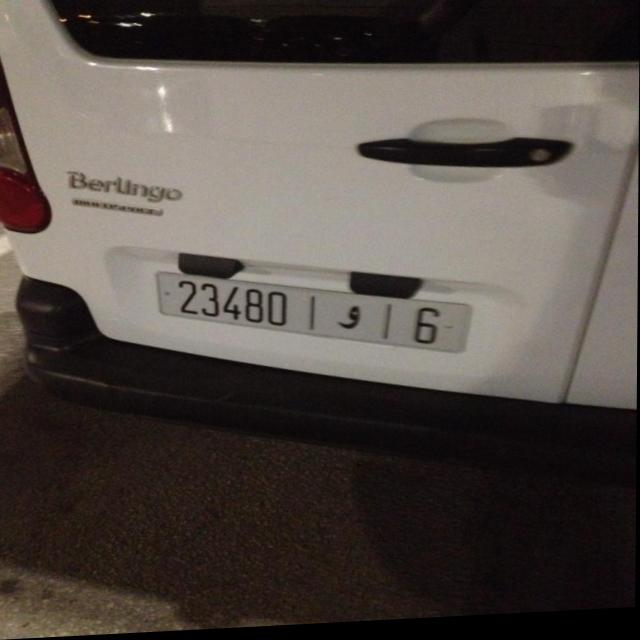License-Plate: (157, 274, 471, 358)
